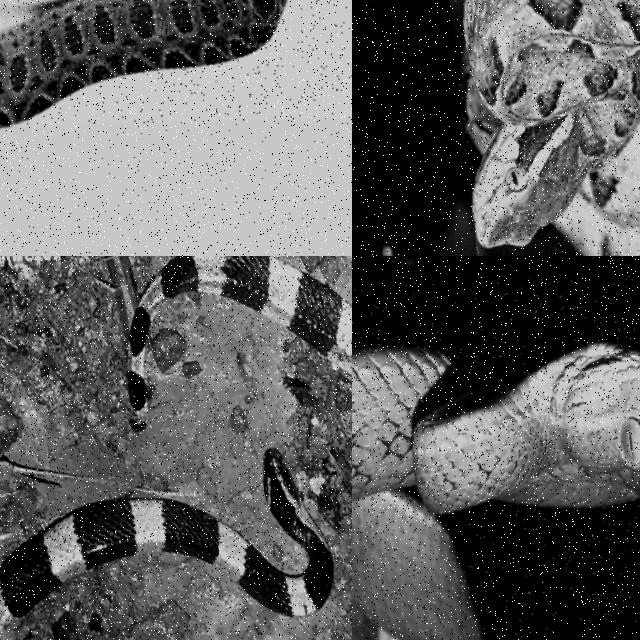Bungarus candidus: (0, 450, 332, 639)
Calloselasma rhodostoma: (464, 0, 639, 255)
Daboia siamensis: (0, 0, 286, 126)
Trimeresurus macrops: (352, 340, 639, 639)
snake: (352, 340, 639, 639), (0, 450, 332, 639), (464, 0, 639, 255), (0, 0, 286, 126)
